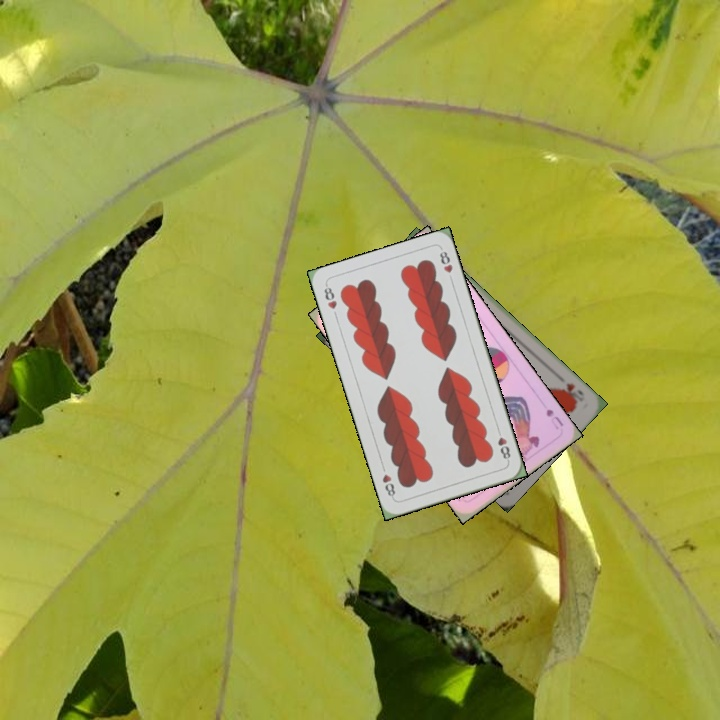H8: (320, 281, 340, 321), (493, 425, 513, 464)
HO: (558, 379, 586, 405)
SU: (542, 405, 566, 432)
